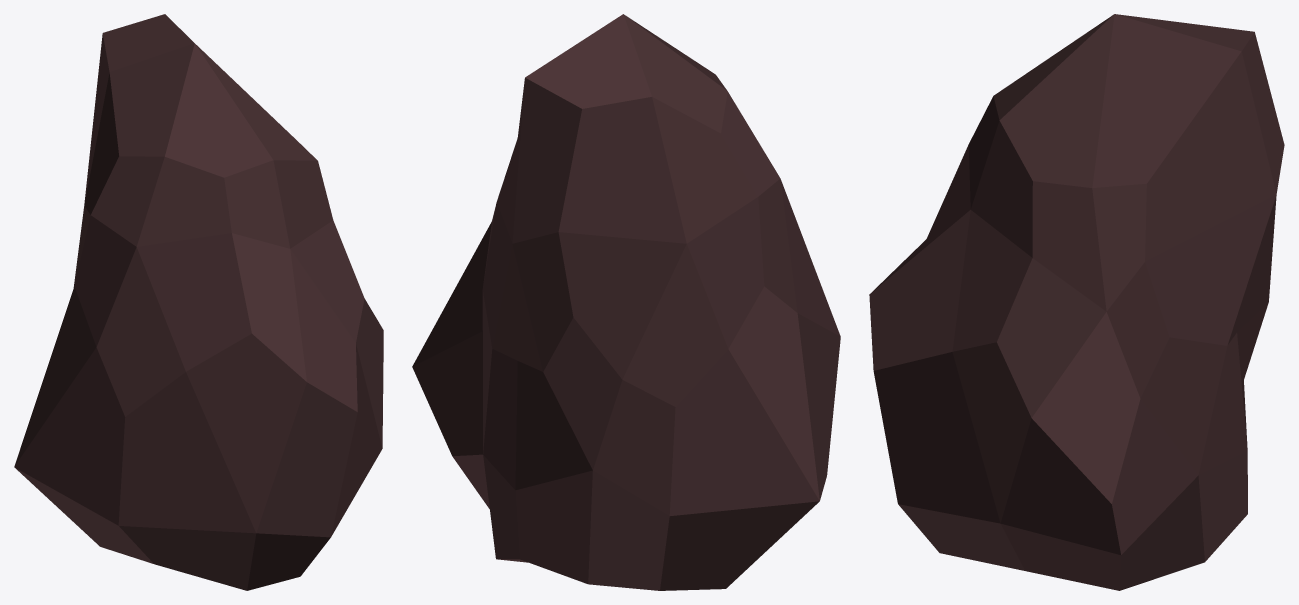
File: rock2.fbx
3 views of the same model, side by side, from view 1: azimuth 30°, elevation 25°; view 2: azimuth 150°, elevation 25°; view 3: azimuth 270°, elevation 25° (orthographic). The views are drawn at different scales.
Parts seen in each view (by area): view 1: Icosphere; view 2: Icosphere; view 3: Icosphere.
Part boxes in pixels (box(x1,y1,x2,y2)): Icosphere: box(14, 14, 383, 590); Icosphere: box(412, 14, 840, 590); Icosphere: box(869, 14, 1284, 590).
Size of the model in its own units: 325 by 423 by 294.
